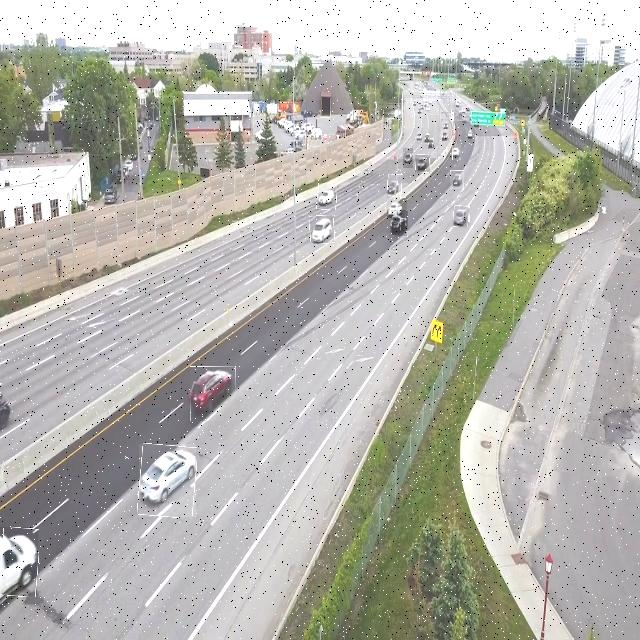Car: (139, 444, 196, 517), (0, 527, 38, 596), (190, 366, 236, 421), (310, 216, 334, 244), (317, 184, 336, 210), (388, 197, 408, 218), (392, 210, 408, 236), (388, 174, 402, 199), (454, 206, 469, 227), (415, 155, 430, 173), (450, 170, 464, 189), (403, 148, 413, 168), (452, 144, 461, 160)
